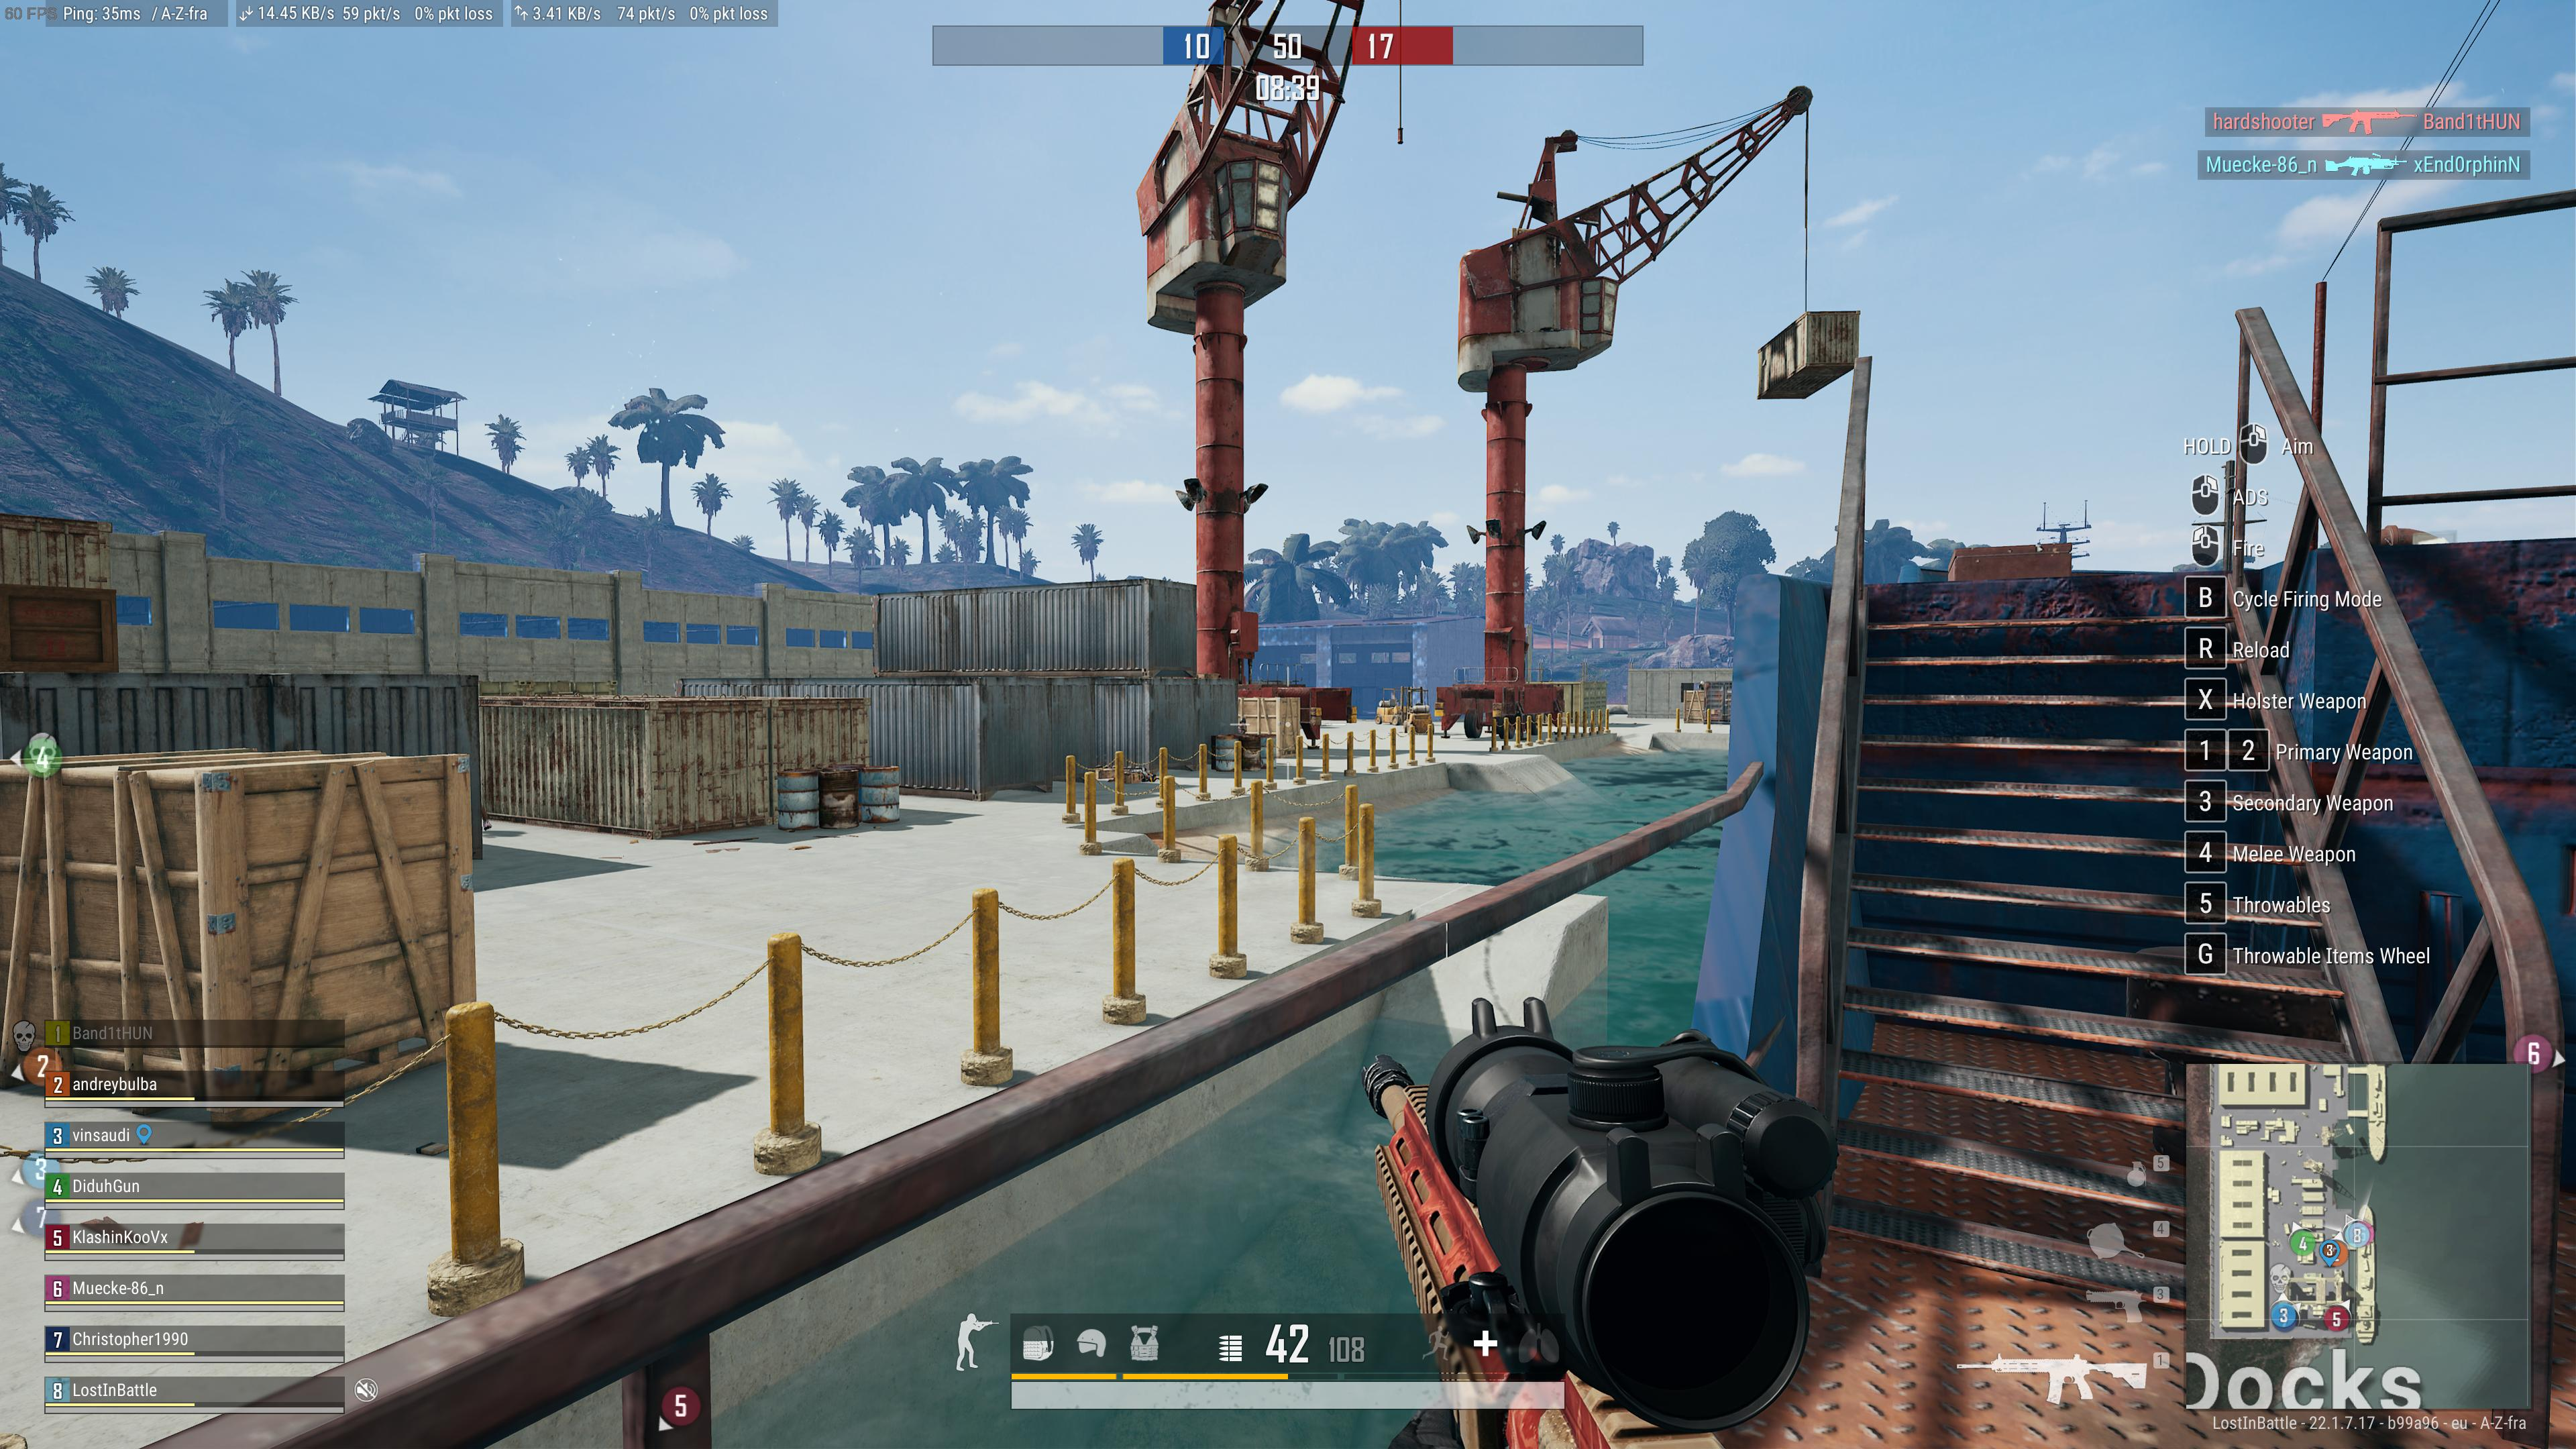enemy: (1237, 717, 1246, 732)
enemy_head: (1238, 717, 1246, 725)
